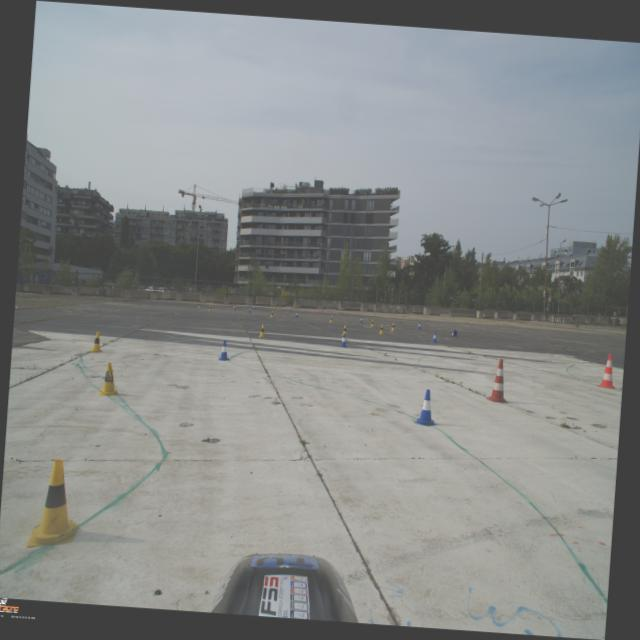blue_cone: (414, 388, 438, 426), (217, 340, 230, 360), (338, 332, 348, 348), (431, 332, 438, 342), (450, 329, 458, 336), (417, 321, 422, 329), (294, 310, 298, 318), (359, 316, 363, 323), (232, 304, 236, 310), (252, 304, 255, 310), (289, 306, 292, 311), (248, 306, 250, 312)
large_orange_cone: (486, 358, 510, 402), (596, 353, 618, 388)
orange_cone: (316, 307, 320, 313), (321, 306, 324, 312)
yellow_cone: (26, 458, 82, 550), (98, 362, 120, 396), (88, 331, 105, 353), (258, 324, 266, 337), (341, 324, 348, 335), (378, 324, 384, 334), (390, 322, 396, 331), (369, 318, 375, 326), (207, 304, 212, 312), (328, 314, 333, 322), (270, 310, 274, 317), (197, 302, 201, 308), (232, 302, 235, 308), (278, 304, 281, 310)
